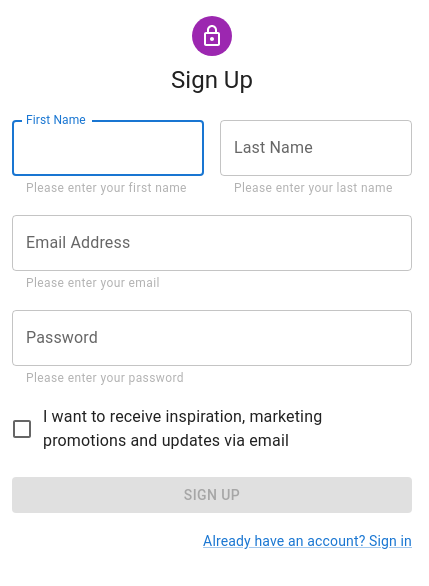
Page SignUp › should check strength password validation
Type "password" into the password field with test id "password-input" at (212, 338), box [12, 310, 412, 366]
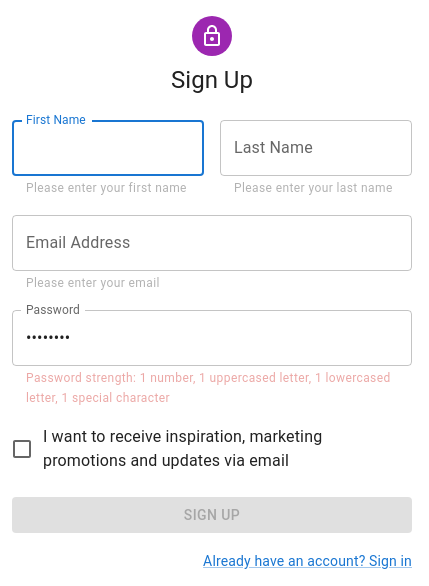
Check: the text "Password strength: 1 number, 1 uppercased letter, 1 lowercased letter, 1 special character" is shown, box [26, 371, 391, 405]
Type "@Qwert1" into the password field with test id "password-input" at (212, 338), box [12, 310, 412, 366]
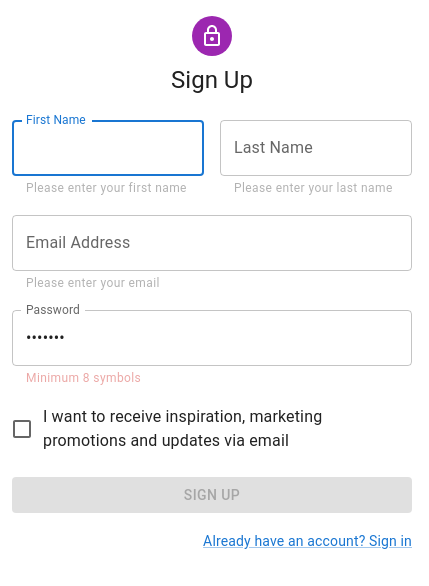
Check: the text "Minimum 8 symbols" is shown, box [26, 371, 141, 385]
Type "@Qwerty123" into the password field with test id "password-input" at (212, 338), box [12, 310, 412, 366]
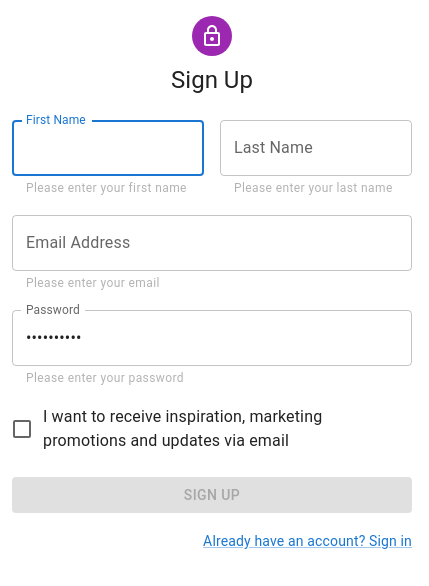
Check: the text "Minimum 8 symbols" is gone
